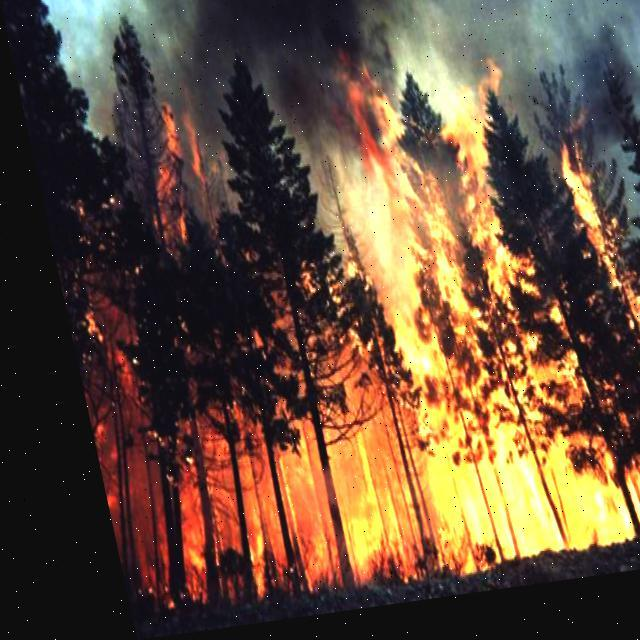Fire: (43, 64, 639, 607)
